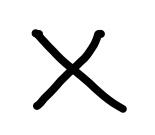mult: (31, 29, 127, 113)
